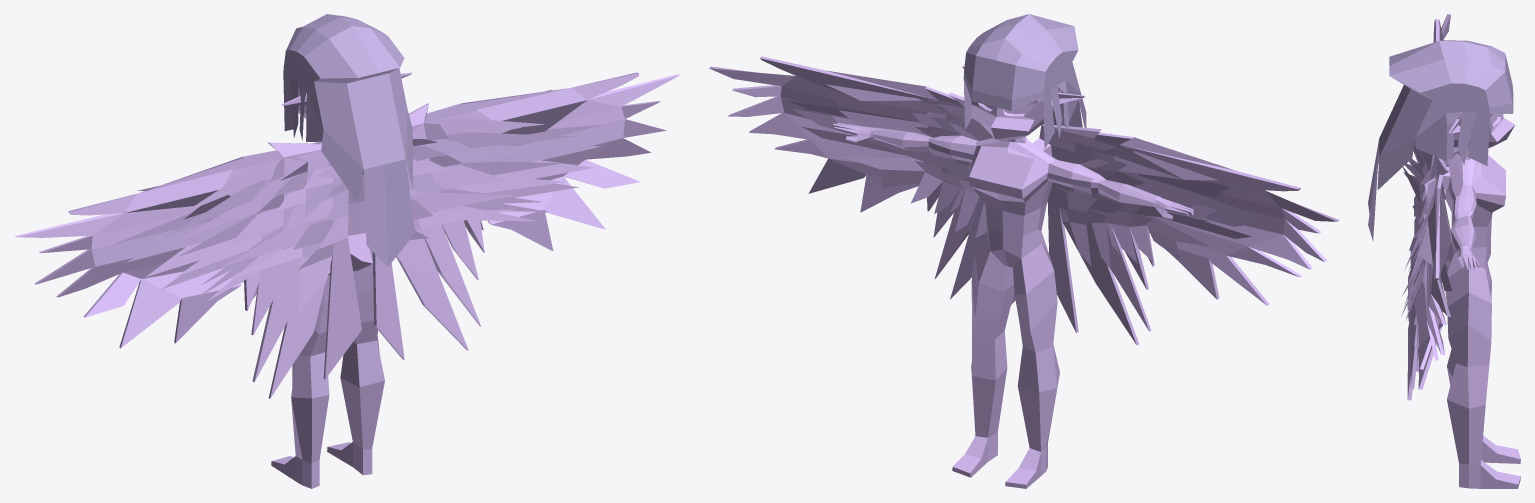
The model's file is lowpolymage.fbx.
3 renders of one model, left to right at view 1: azimuth 30°, elevation 25°; view 2: azimuth 150°, elevation 25°; view 3: azimuth 270°, elevation 25°, orthographic. The views are drawn at different scales.
Visible parts, largest first — view 1: Cube.002, Cube.001, Cube; view 2: Cube.002, Cube, Cube.001; view 3: Cube, Cube.001, Cube.002.
Part boxes in pixels (x1,y1,x2,y2): Cube.002: (14, 72, 679, 398); Cube.001: (283, 14, 414, 266); Cube: (271, 72, 411, 488); Cube.002: (709, 56, 1339, 345); Cube: (832, 66, 1193, 488); Cube.001: (963, 14, 1086, 148); Cube: (1442, 112, 1520, 488); Cube.001: (1368, 40, 1513, 240); Cube.002: (1401, 14, 1452, 400).
Size of the model in its own units: 363 by 242 by 77.59.
